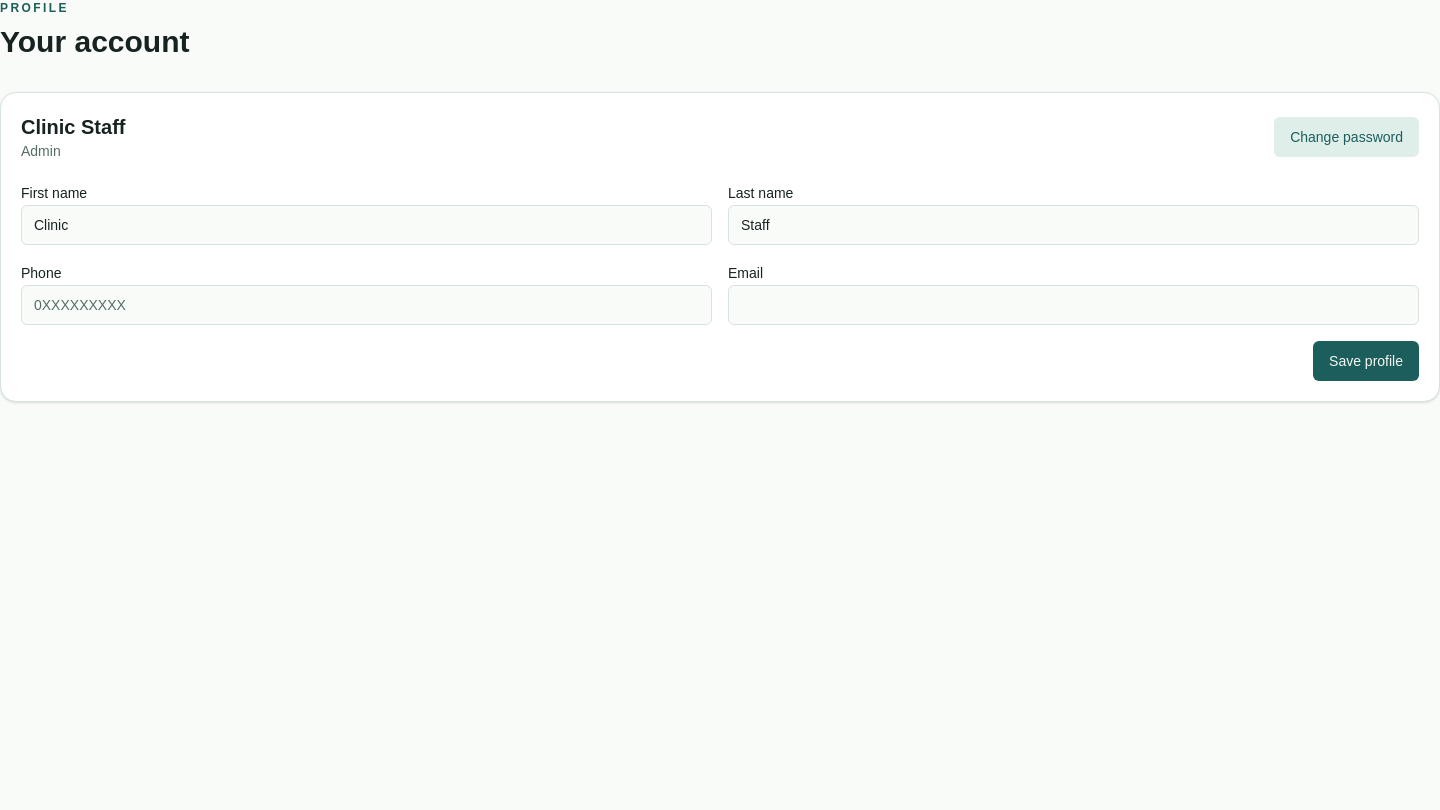
Test: profile page › offers the change-password dialog from the profile
Click the button "Change password".
click(1347, 137)  # box [1274,117,1419,157]
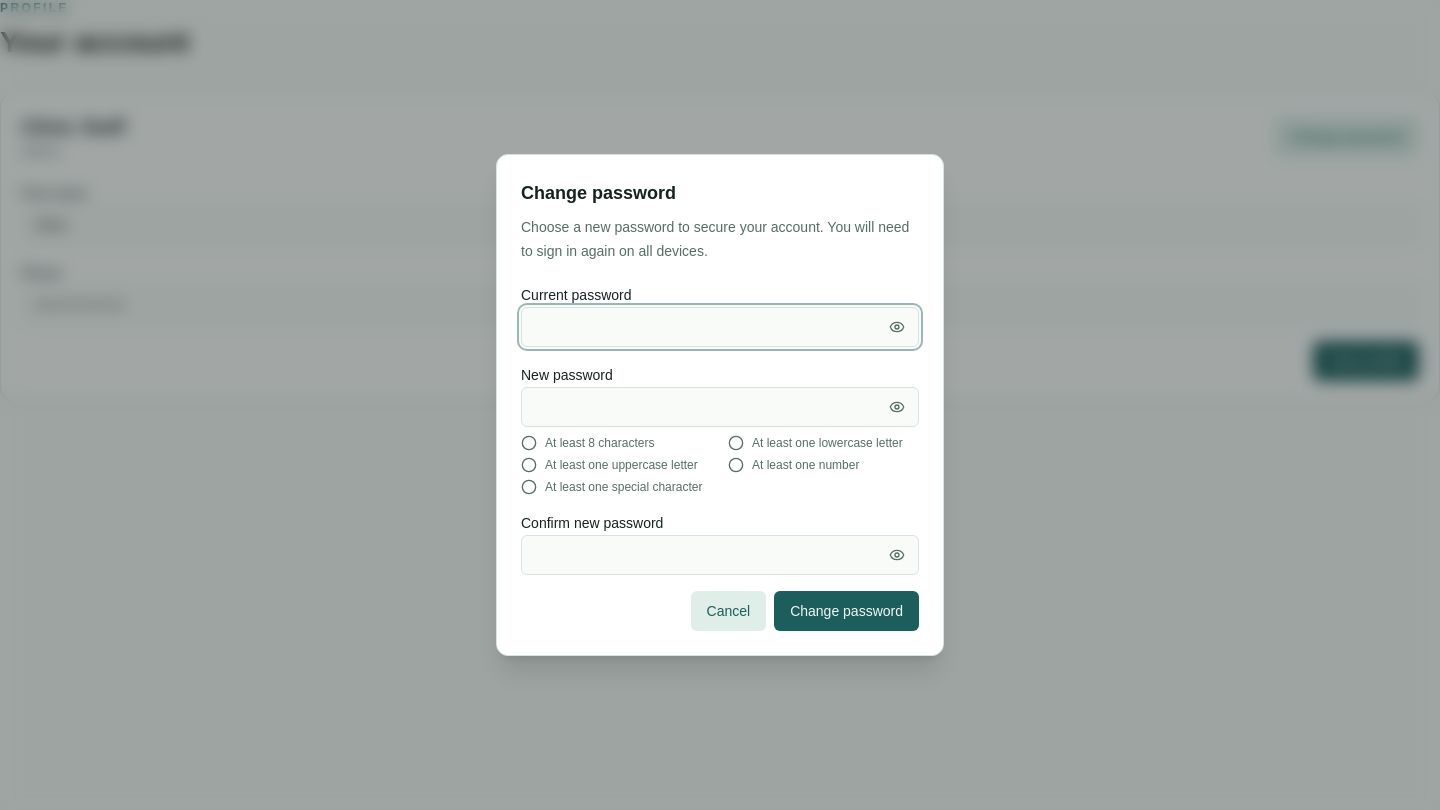
Check: the password field labelled "Current password" is shown, box [521,307,919,347]
Check: the password field labelled "New password" is shown, box [521,387,919,427]
Check: the password field labelled "Confirm new password" is shown, box [521,535,919,575]
